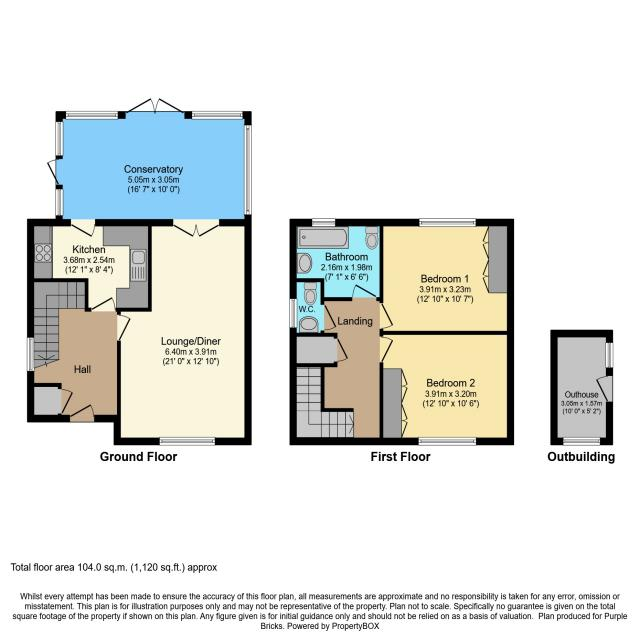DOOR: (69, 219, 96, 238), (69, 403, 95, 422), (320, 304, 338, 331), (351, 283, 377, 301), (379, 302, 394, 330), (117, 314, 132, 342), (90, 296, 116, 312), (379, 336, 394, 363)
DOUBLE DOOR: (125, 95, 186, 119), (173, 216, 219, 238)
ROOM: (113, 218, 252, 446), (379, 218, 515, 335), (379, 331, 514, 446), (27, 218, 152, 312)
WINDOW: (417, 436, 477, 446), (418, 218, 477, 228), (159, 436, 216, 446), (26, 337, 35, 372), (289, 298, 298, 328), (311, 218, 336, 227)
